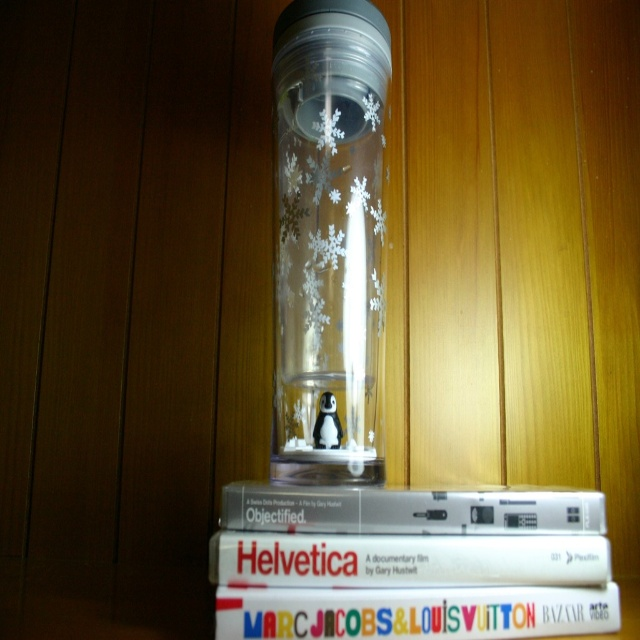Penguin: (315, 392, 342, 449)
